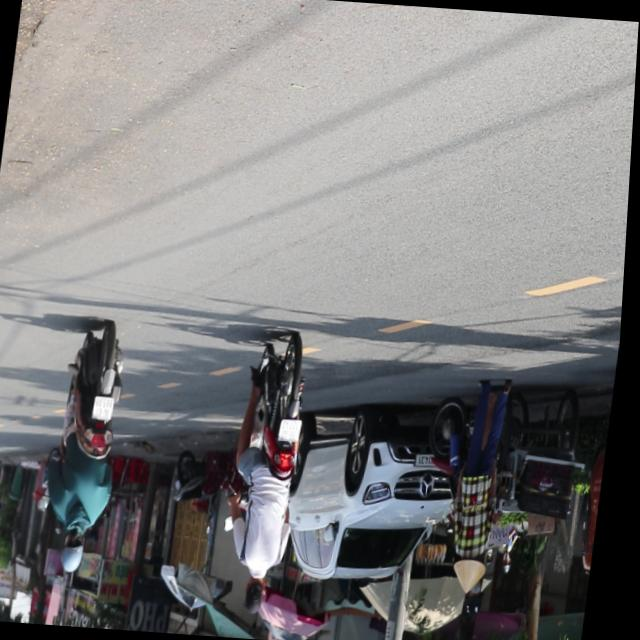helmet: (65, 530, 94, 576)
licenseplate: (220, 330, 325, 620), (43, 321, 139, 578)
motorcyclist: (248, 574, 274, 616)
nohelmet: (97, 396, 120, 422), (283, 420, 307, 443)
